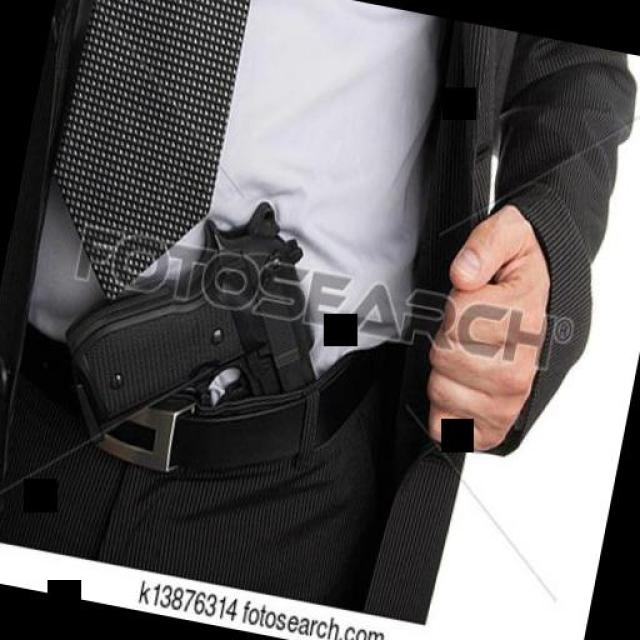gun: (41, 172, 370, 483)
